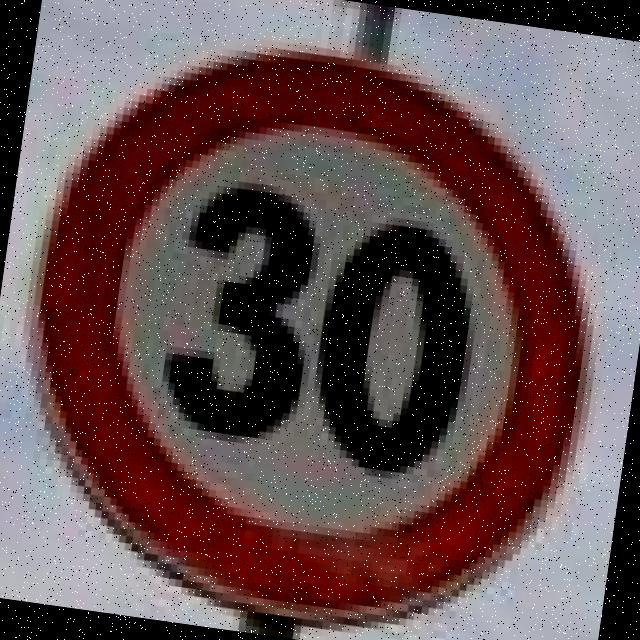Ograniczenie predkosci do 30: (0, 13, 612, 637)
